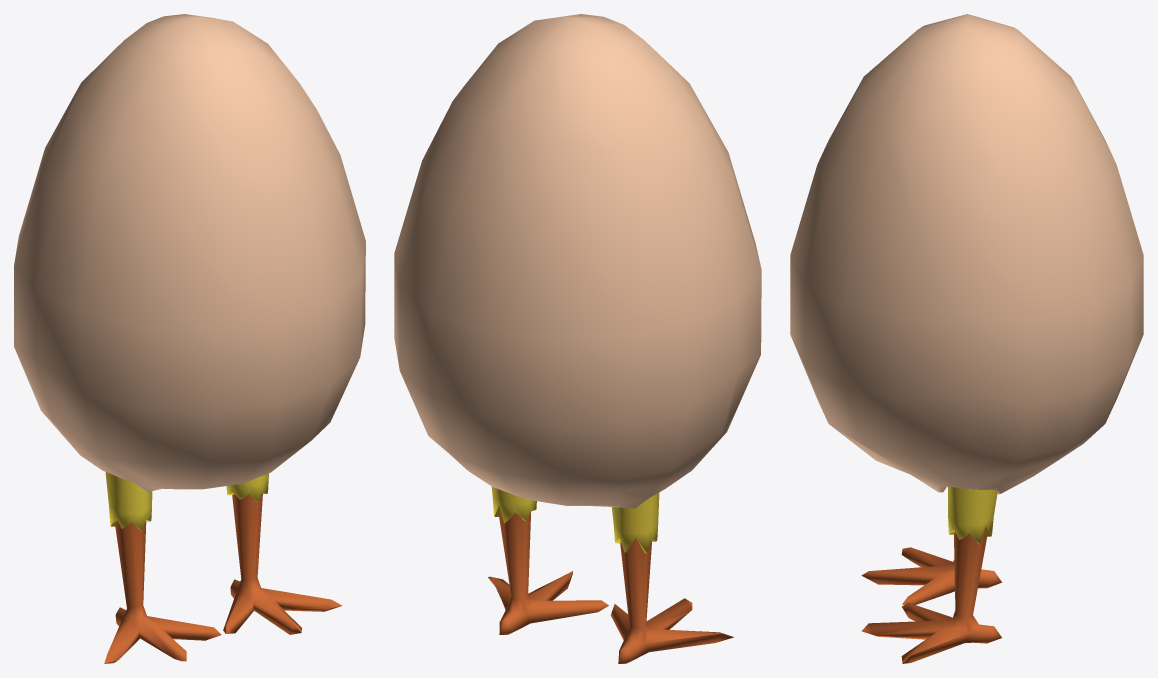
Rendered from egg.fbx.
The picture shows the model from 3 angles, left to right: view 1: azimuth 30°, elevation 25°; view 2: azimuth 150°, elevation 25°; view 3: azimuth 270°, elevation 25°; orthographic projection. The views are drawn at different scales.
Visible parts, largest first — view 1: Egg_Character; view 2: Egg_Character; view 3: Egg_Character.
Part boxes in pixels (x1,y1,x2,y2): Egg_Character: [14, 14, 365, 663]; Egg_Character: [394, 14, 761, 663]; Egg_Character: [790, 14, 1143, 663].
Size of the model in its own units: 0.1034 by 0.1906 by 0.1023.
